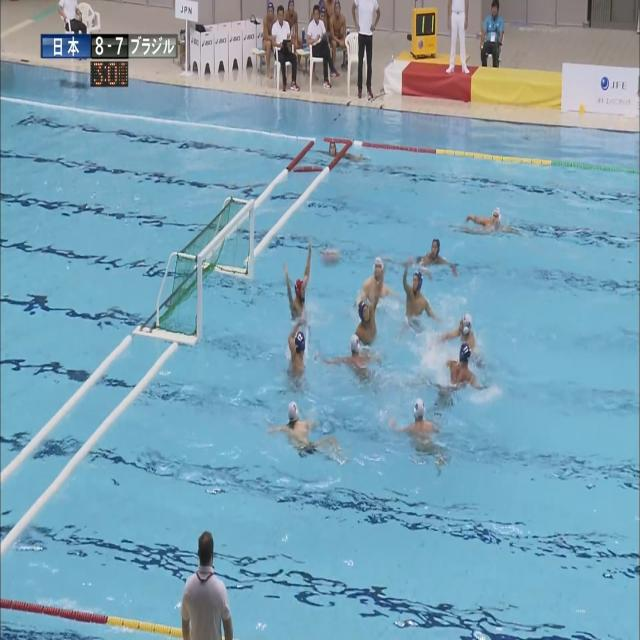ball: (322, 250, 338, 264)
